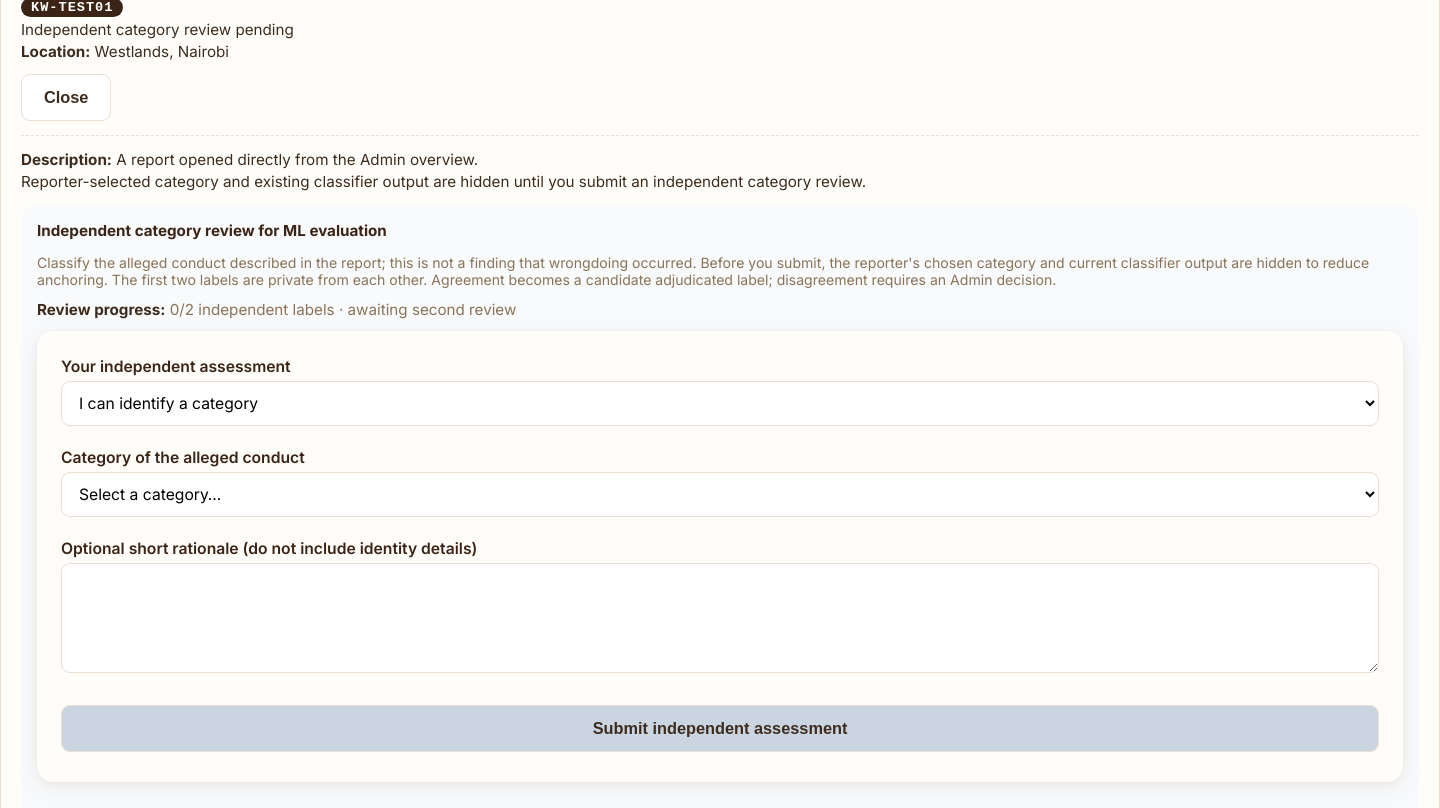
Test case: allows reviewers to mark insufficient information without submitting a category
This screenshot has width=1440, height=808.
(page scrolled)
Select "Insufficient information to classify" in the dropdown labelled "Your independent assessment": (720,404) x1=61 y1=381 x2=1379 y2=426
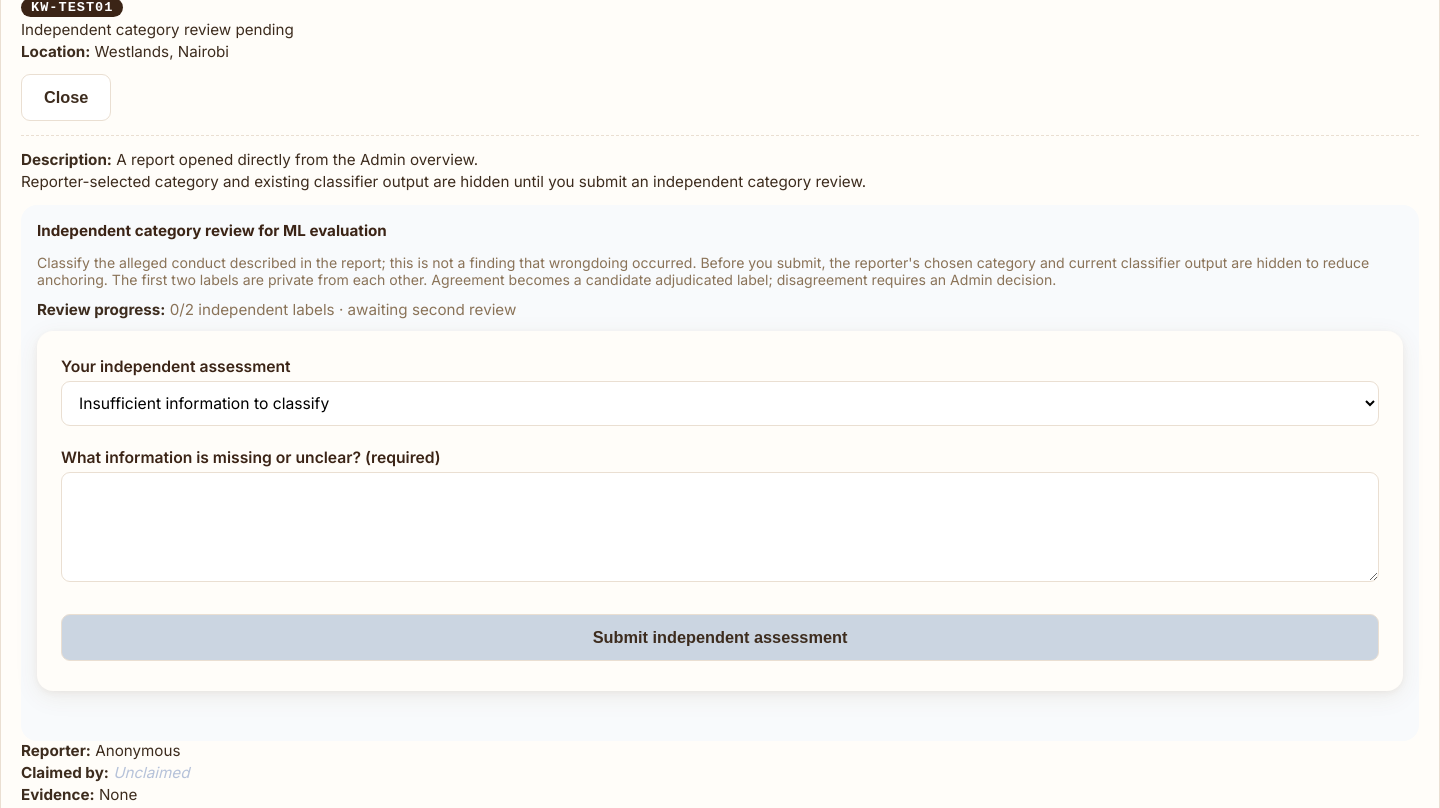
Check: the label labelled "Category of the alleged conduct" is gone
In the text box labelled "What information is missing or unclear? (required)": (720,527) x1=61 y1=472 x2=1379 y2=582, type "The action described is too vague."
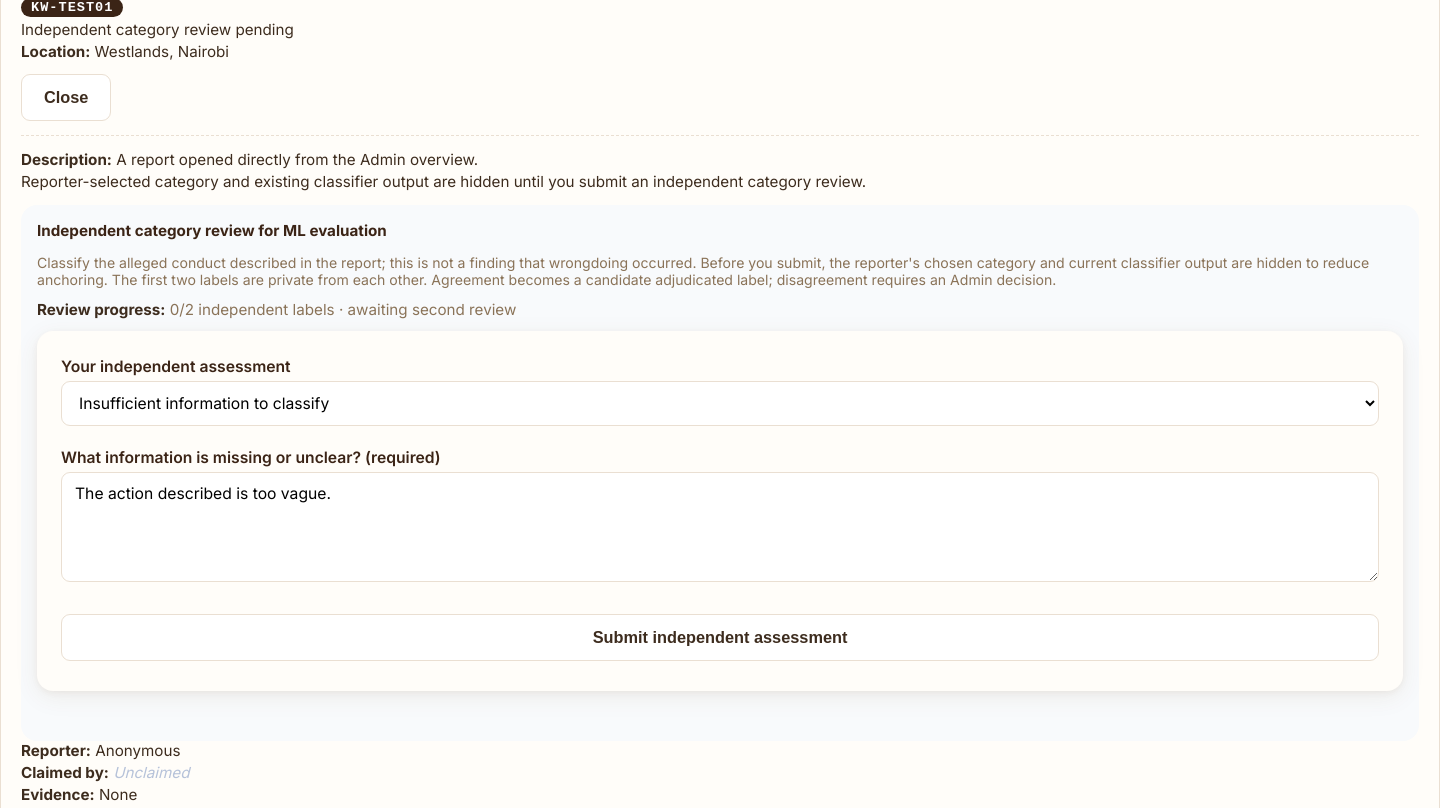
Click the button "Submit independent assessment": (720,638) x1=61 y1=614 x2=1379 y2=661
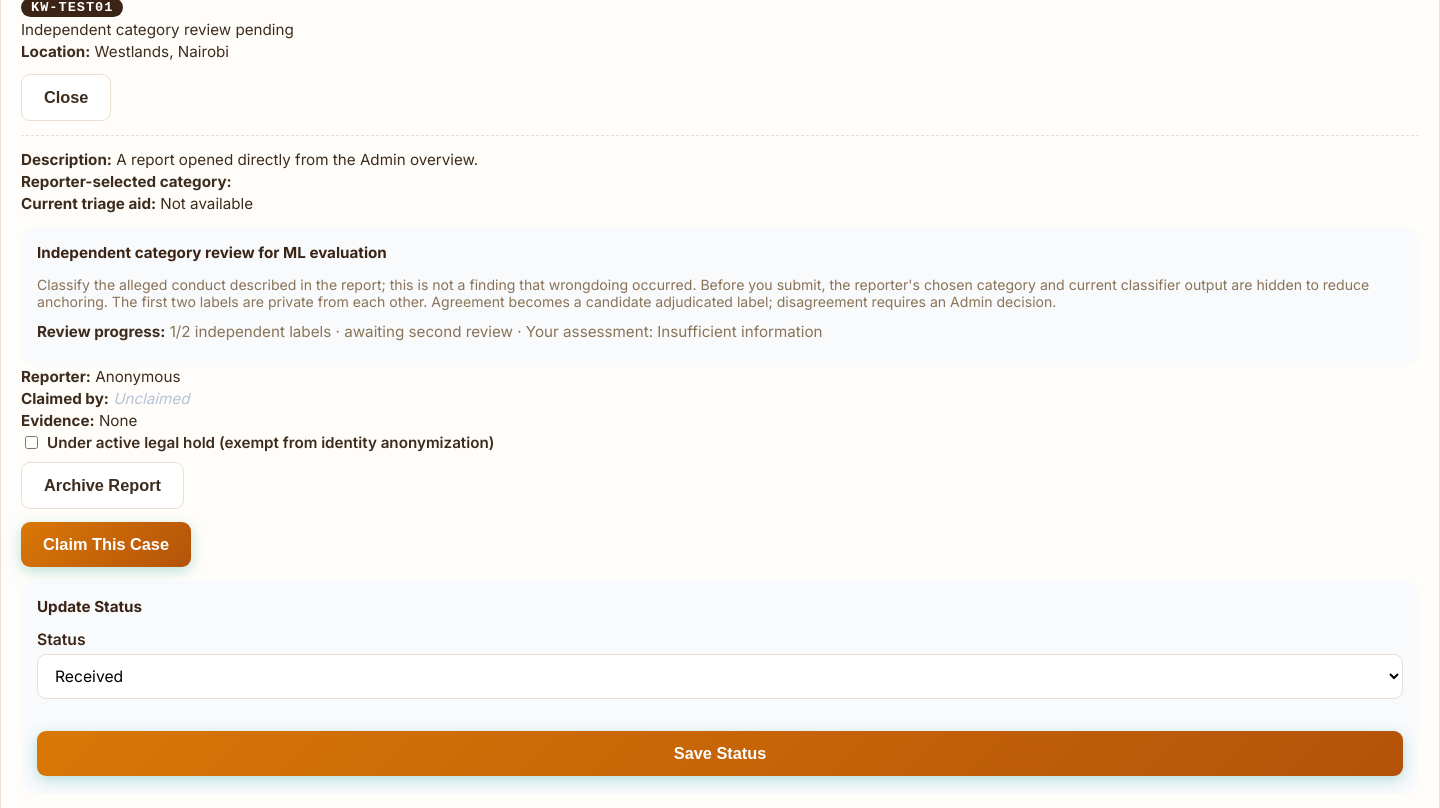
Check: the text "Your assessment: Insufficient information" is shown, box x1=513 y1=322 x2=823 y2=341
